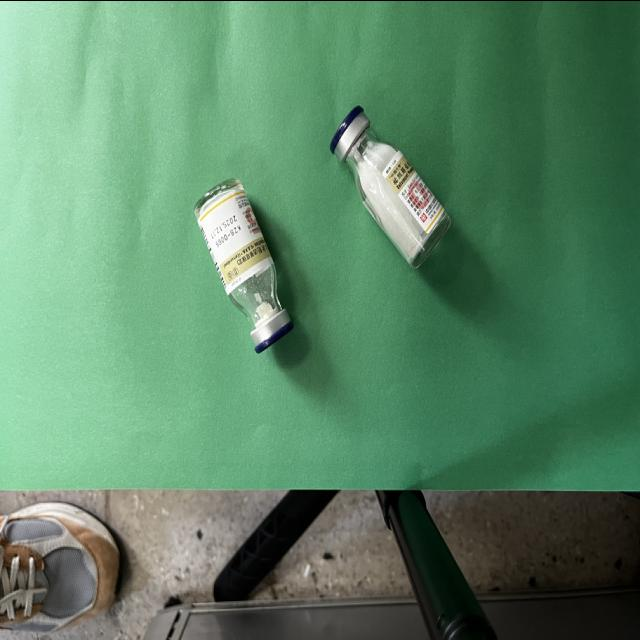Vials: (330, 106, 450, 267), (194, 179, 294, 352)
